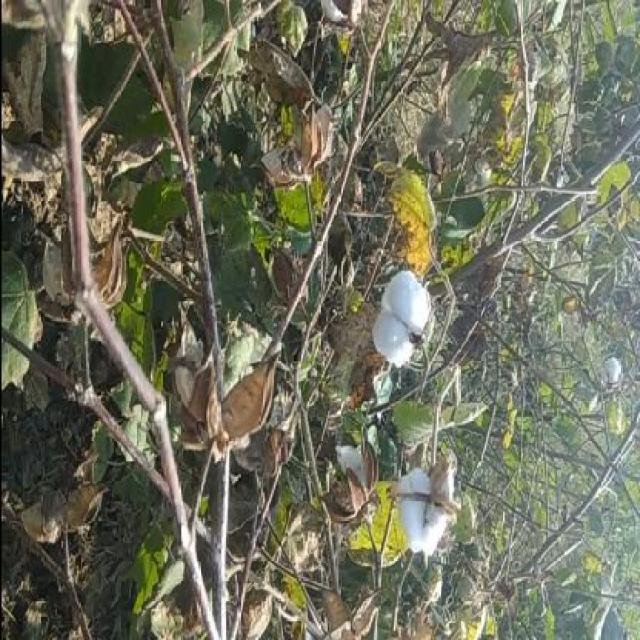cotton_ready: (361, 432, 470, 580), (340, 234, 431, 389)
